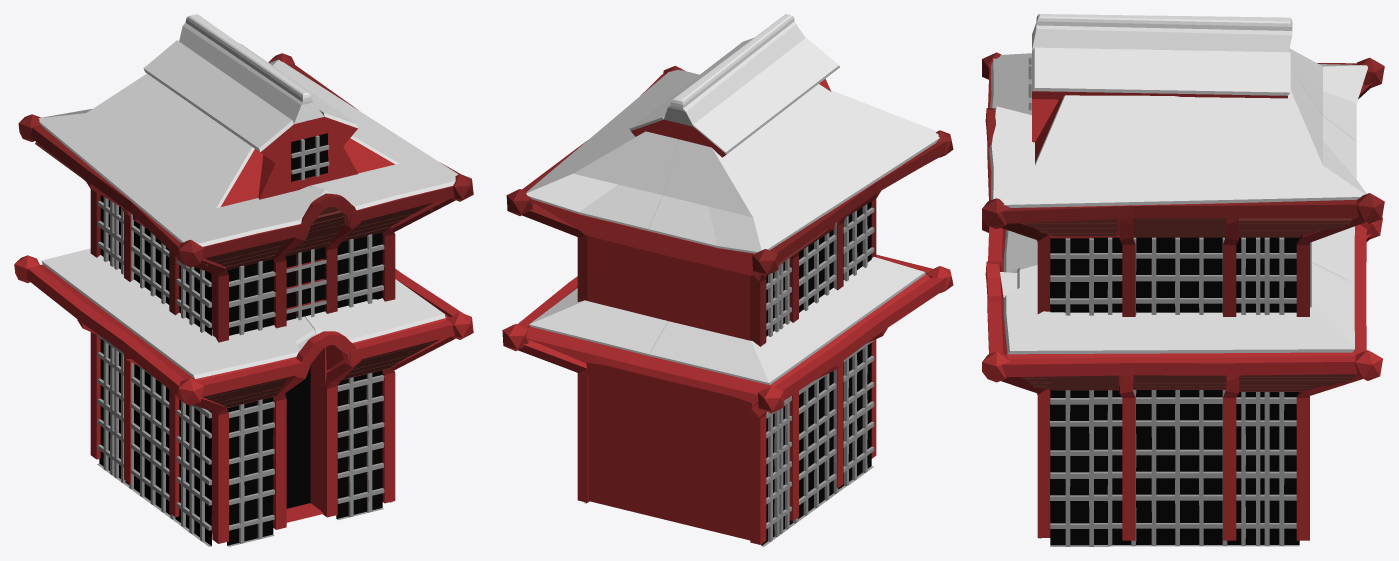
The model's file is Cave-Scene-shrine.fbx.
3 renders of one model, left to right at view 1: azimuth 30°, elevation 25°; view 2: azimuth 150°, elevation 25°; view 3: azimuth 270°, elevation 25°, orthographic. The views are drawn at different scales.
Visible parts, largest first — view 1: Cube.002; view 2: Cube.002; view 3: Cube.002.
Part boxes in pixels (x1,y1,x2,y2): Cube.002: (14,14,473,546); Cube.002: (502,14,953,546); Cube.002: (982,14,1384,546).
Size of the model in its own units: 2088 by 2956 by 2238.
